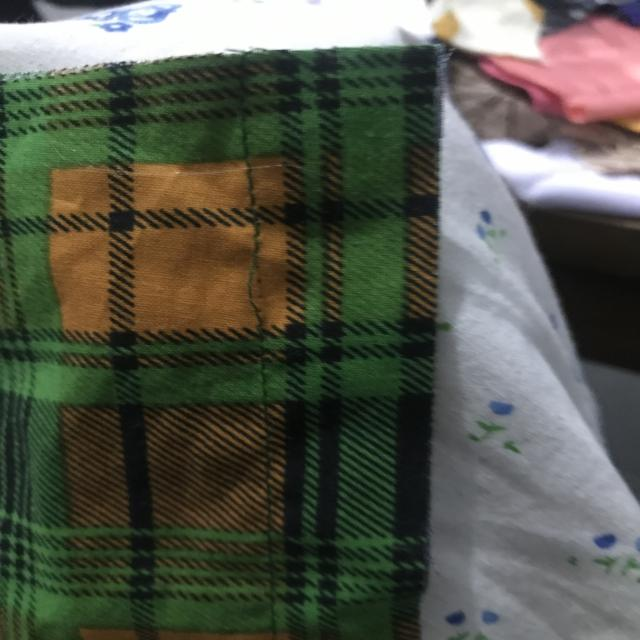good: (246, 174, 264, 220)
skip: (230, 236, 279, 328)
